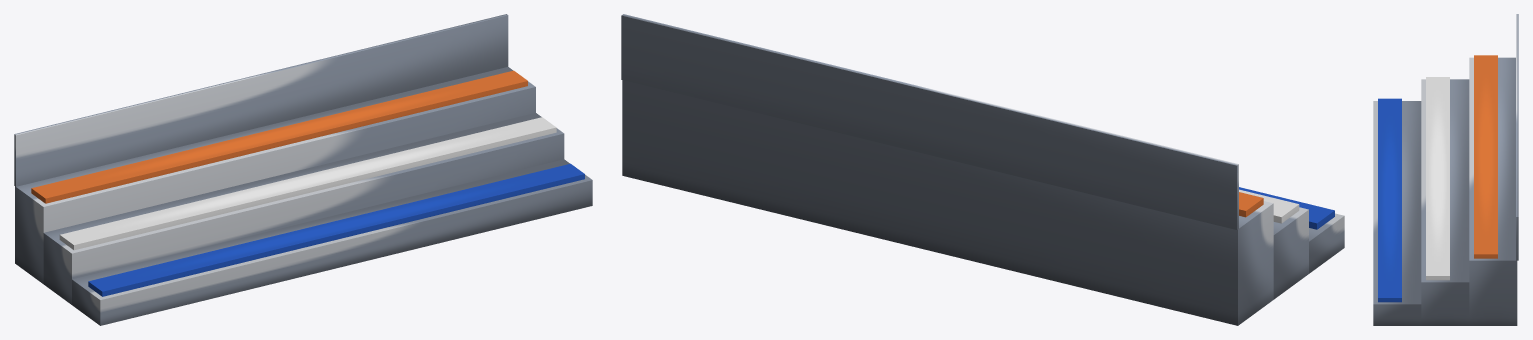
Rendered from Bleachers.fbx.
The picture shows the model from 3 angles, left to right: view 1: azimuth 30°, elevation 25°; view 2: azimuth 150°, elevation 25°; view 3: azimuth 270°, elevation 25°; orthographic projection. The views are drawn at different scales.
Visible parts, largest first — view 1: Bleachers_Body; view 2: Bleachers_Body; view 3: Bleachers_Body.
Boxes of the visible parts, <box> form: Bleachers_Body: <box>14,14,592,325</box>; Bleachers_Body: <box>621,14,1344,325</box>; Bleachers_Body: <box>1373,14,1518,325</box>.
Size of the model in its own units: 10 by 2.5 by 3.03.
1 material, 1 textured.
